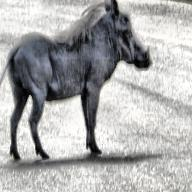boar: (0, 0, 152, 160)
